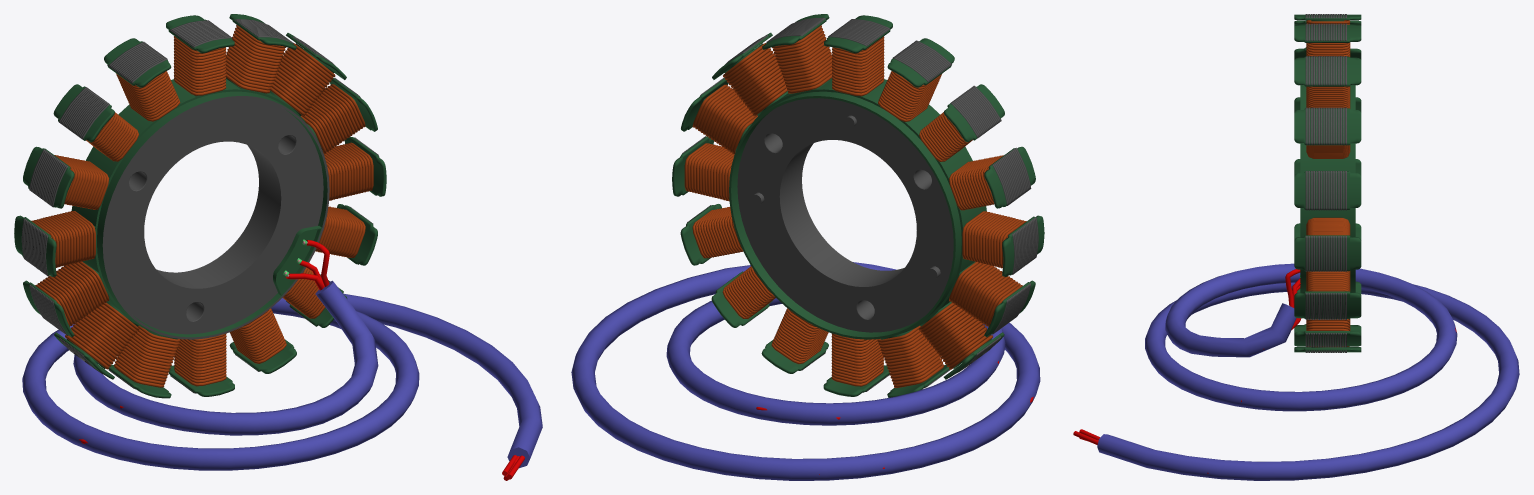
The model's file is coil.fbx.
3 renders of one model, left to right at view 1: azimuth 30°, elevation 25°; view 2: azimuth 150°, elevation 25°; view 3: azimuth 270°, elevation 25°, orthographic. The views are drawn at different scales.
Parts seen in each view (by area): view 1: coil_LOD0; view 2: coil_LOD0; view 3: coil_LOD0.
Part boxes in pixels (left/top/right/bottom): coil_LOD0: left=14, top=14, right=542, bottom=480; coil_LOD0: left=571, top=14, right=1044, bottom=480; coil_LOD0: left=1073, top=14, right=1519, bottom=480.
Size of what is drawn, in the model's own units: 14.91 by 12.55 by 14.86.
